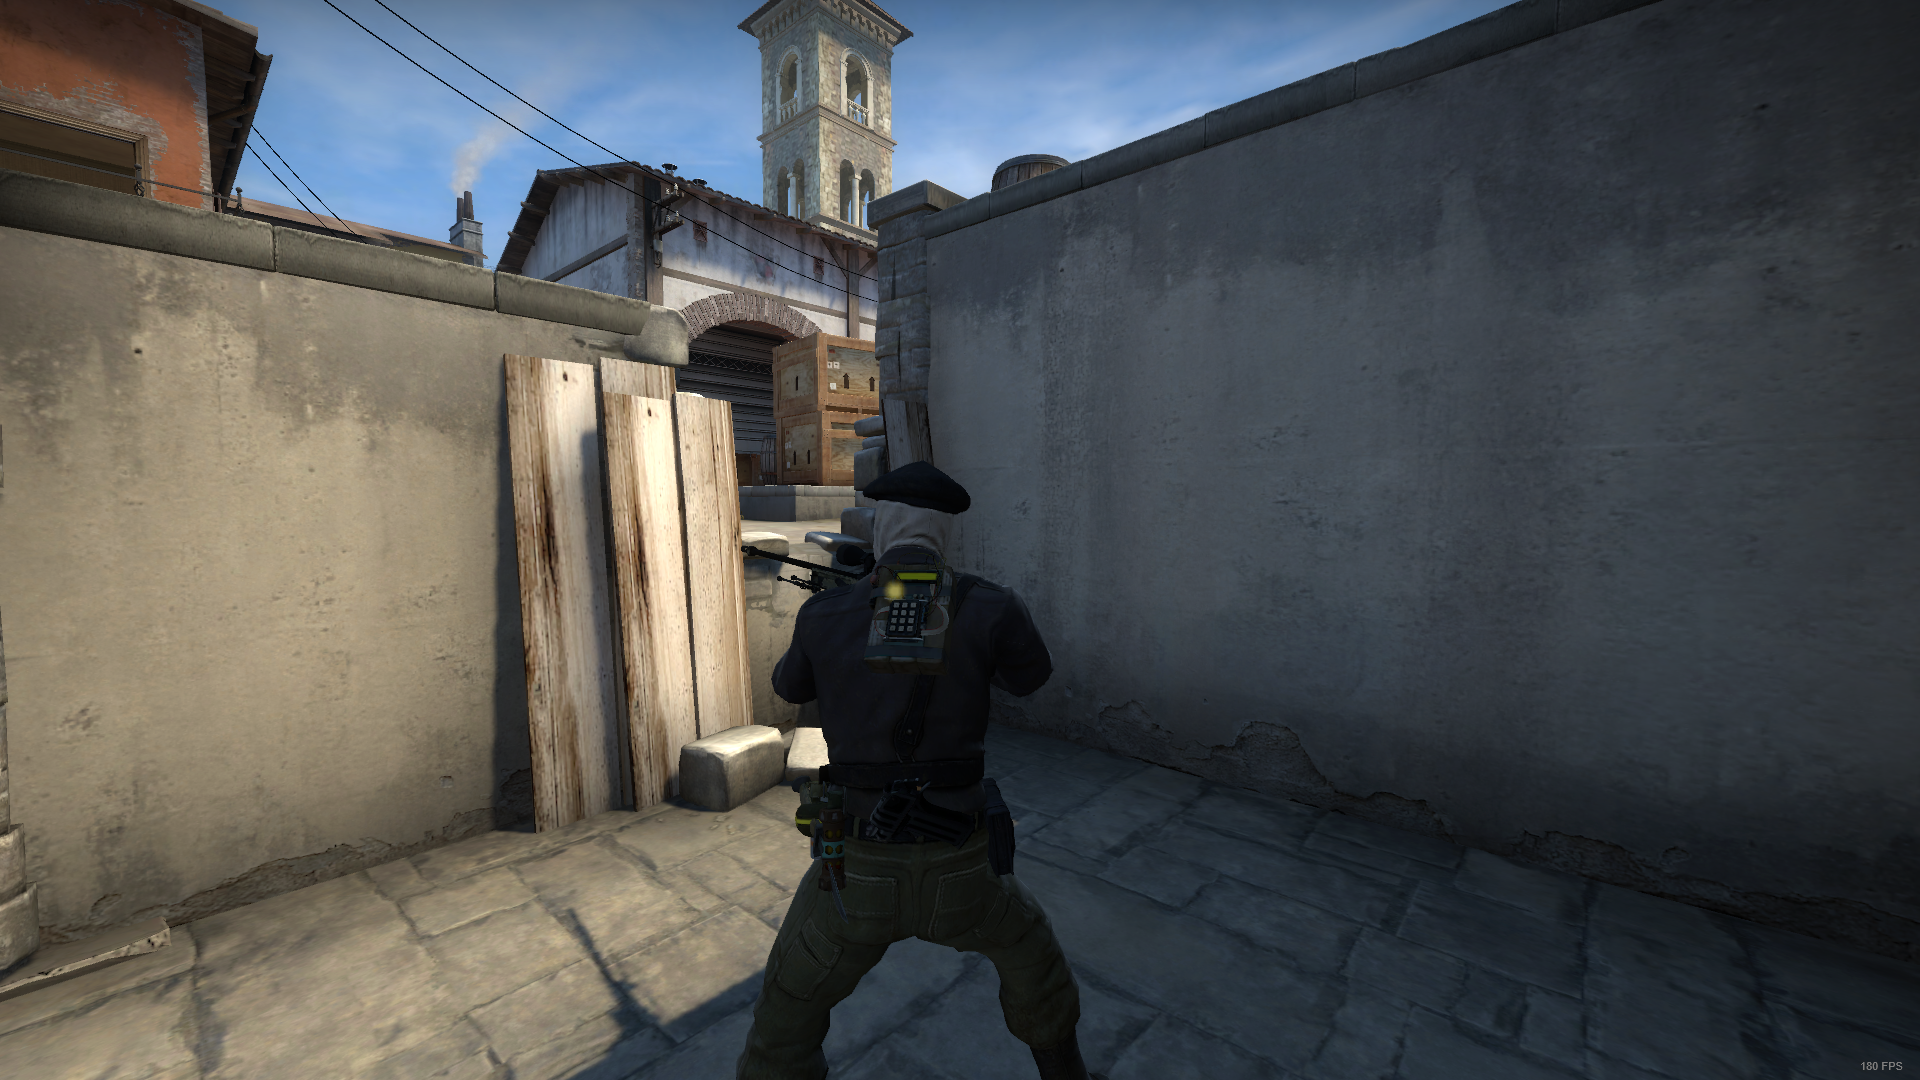t: (732, 460, 1089, 1080)
